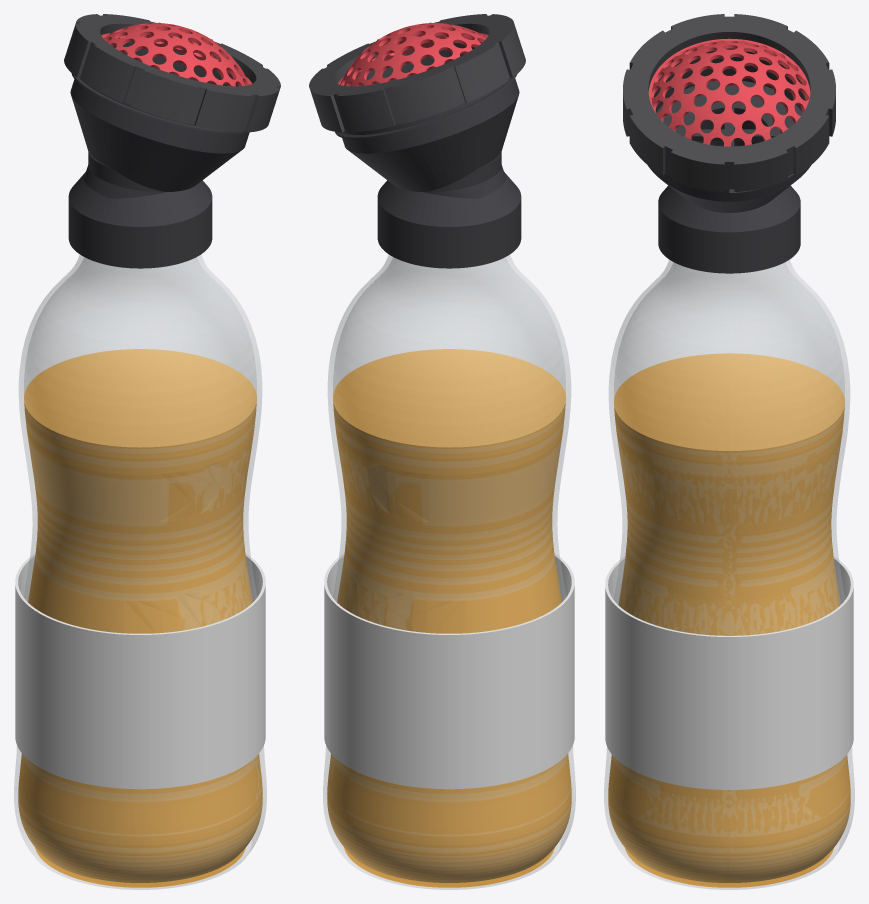
File: megamop.glb
3 renders of one model, left to right at view 1: azimuth 30°, elevation 25°; view 2: azimuth 150°, elevation 25°; view 3: azimuth 270°, elevation 25°, orthographic.
Parts seen in each view (by area): view 1: bottle_shell, bottle_liquid, bottle_label, mop_base, mop_ring, mop_dome; view 2: bottle_shell, bottle_liquid, bottle_label, mop_base, mop_ring, mop_dome; view 3: bottle_shell, bottle_liquid, bottle_label, mop_ring, mop_base, mop_dome.
Part boxes in pixels (x1,y1,x2,y2): bottle_shell: (14, 255, 266, 889); bottle_liquid: (18, 349, 262, 887); bottle_label: (15, 553, 265, 789); mop_base: (68, 41, 249, 268); mop_ring: (64, 14, 280, 132); mop_dome: (101, 23, 252, 86); bottle_shell: (323, 255, 575, 889); bottle_liquid: (327, 349, 571, 887); bottle_label: (324, 553, 574, 789); mop_base: (335, 41, 521, 268); mop_ring: (309, 14, 525, 132); mop_dome: (337, 23, 488, 86); bottle_shell: (604, 260, 854, 889); bottle_liquid: (608, 353, 850, 887); bottle_label: (605, 556, 853, 789); mop_ring: (623, 14, 835, 191); mop_base: (648, 48, 810, 273); mop_dome: (648, 38, 810, 146).
Bounding box in the file's own units: 82.83 × 274 × 77.31.
